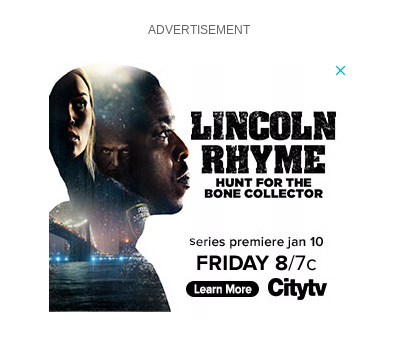fake_button: (325, 57, 357, 85)
